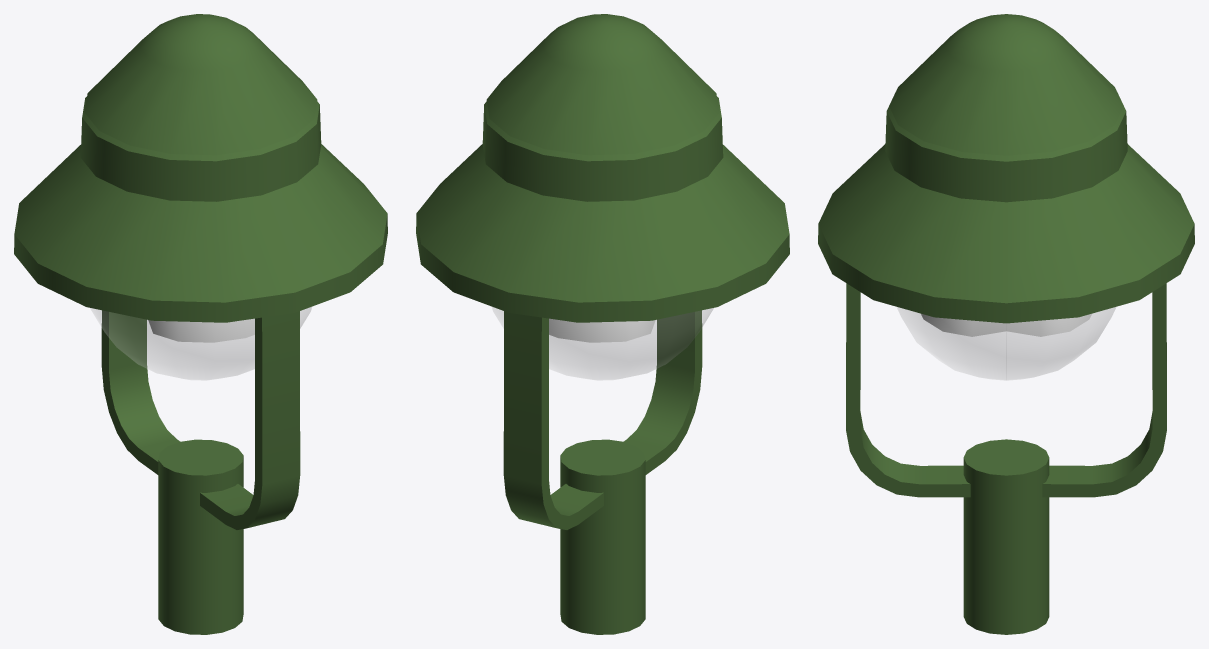
3 renders of one model, left to right at view 1: azimuth 30°, elevation 25°; view 2: azimuth 150°, elevation 25°; view 3: azimuth 270°, elevation 25°, orthographic.
Visible parts, largest first — view 1: Schirm DL 304, Schirmbuegel.001, Cylinder.001, Glas.001, Reflektor.001; view 2: Schirm DL 304, Schirmbuegel.001, Cylinder.001, Glas.001, Reflektor.001; view 3: Schirm DL 304, Cylinder.001, Schirmbuegel.001, Glas.001, Reflektor.001.
Boxes of the visible parts, x1=… form: Schirm DL 304: x1=14, y1=14, x2=387, y2=322; Schirmbuegel.001: x1=101, y1=310, x2=300, y2=529; Cylinder.001: x1=158, y1=439, x2=243, y2=634; Glas.001: x1=90, y1=307, x2=311, y2=380; Reflektor.001: x1=148, y1=318, x2=254, y2=342; Schirm DL 304: x1=416, y1=14, x2=789, y2=322; Schirmbuegel.001: x1=503, y1=310, x2=702, y2=529; Cylinder.001: x1=560, y1=439, x2=645, y2=634; Glas.001: x1=492, y1=307, x2=713, y2=380; Reflektor.001: x1=549, y1=318, x2=655, y2=342; Schirm DL 304: x1=818, y1=14, x2=1194, y2=323; Cylinder.001: x1=963, y1=439, x2=1049, y2=634; Schirmbuegel.001: x1=846, y1=283, x2=1166, y2=497; Glas.001: x1=897, y1=307, x2=1115, y2=380; Reflektor.001: x1=921, y1=313, x2=1091, y2=336.
Size of the model in its own units: 0.4395 by 0.767 by 0.4395.
5 materials, 4 textured.
